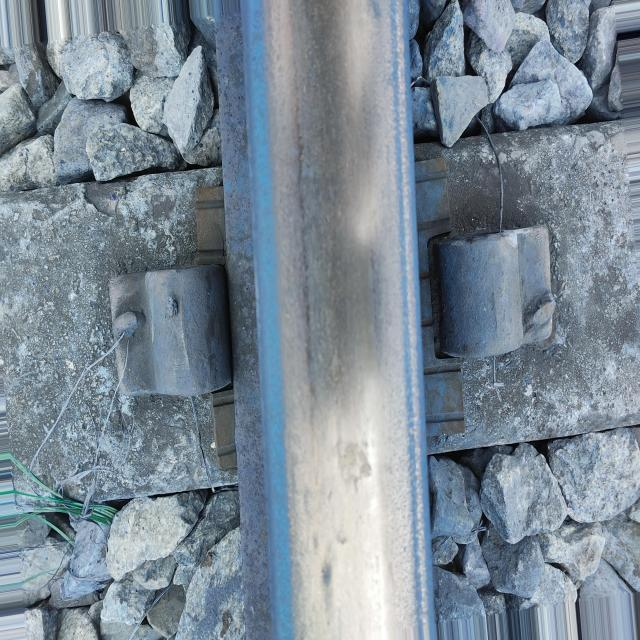Missing Fastener: (422, 214, 584, 387), (98, 254, 231, 422)
